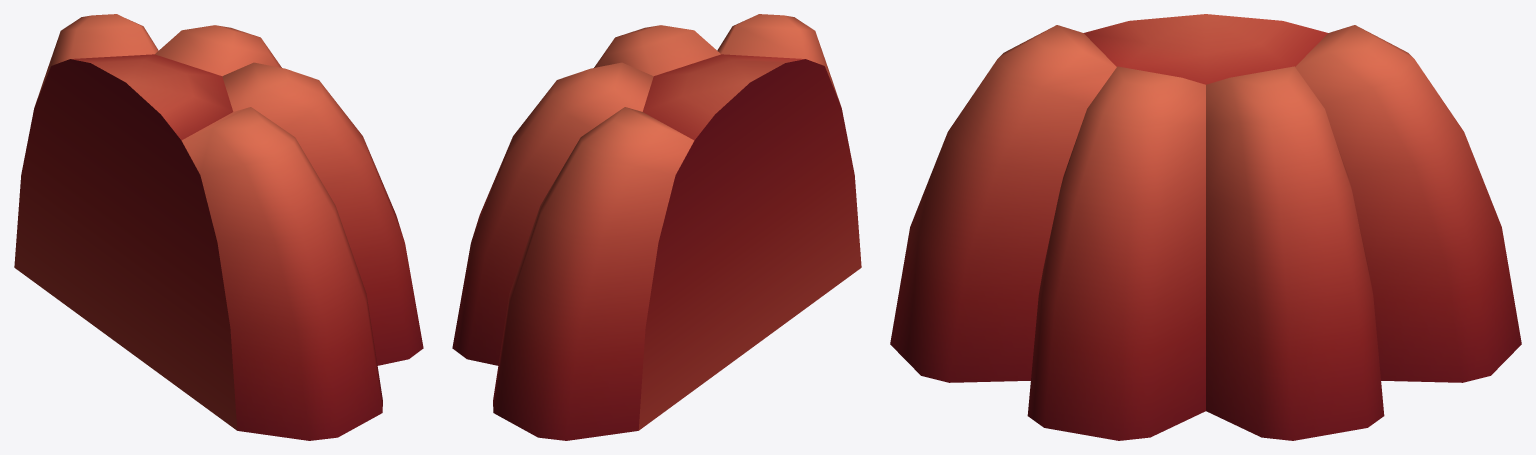
Rendered from Jelly_Half_01.glb.
The picture shows the model from 3 angles, left to right: view 1: azimuth 30°, elevation 25°; view 2: azimuth 150°, elevation 25°; view 3: azimuth 270°, elevation 25°; orthographic projection. The views are drawn at different scales.
Visible parts, largest first — view 1: Jelly_Half_01; view 2: Jelly_Half_01; view 3: Jelly_Half_01.
Boxes of the visible parts, bbox=[...] form: Jelly_Half_01: bbox=[14, 14, 423, 440]; Jelly_Half_01: bbox=[452, 14, 861, 440]; Jelly_Half_01: bbox=[890, 14, 1521, 440].
Bounding box in the file's own units: 0.3447 × 0.3534 × 0.6894.
1 material, 1 textured.
